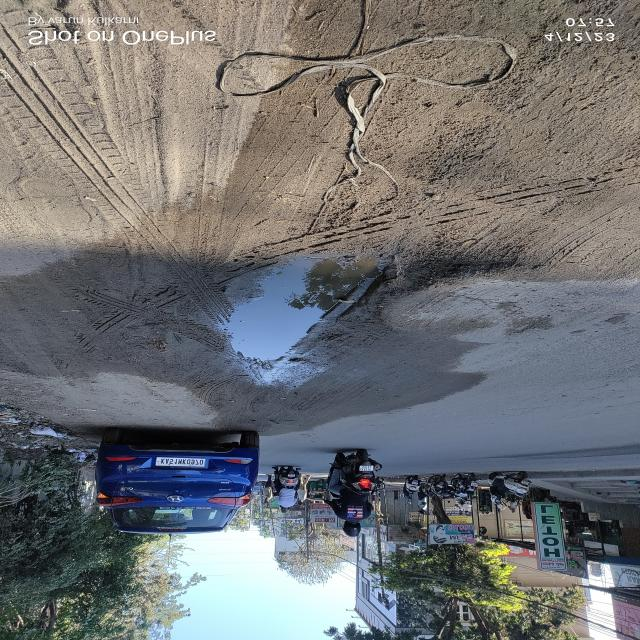Puddle pothole: (228, 171, 431, 392)
